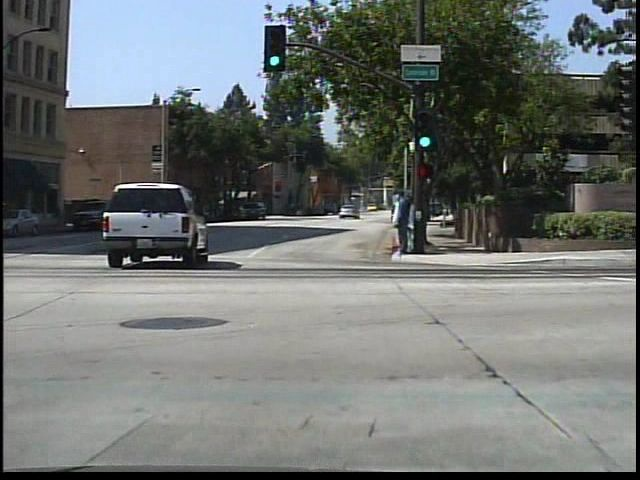person: (391, 186, 412, 257), (390, 192, 409, 256)
